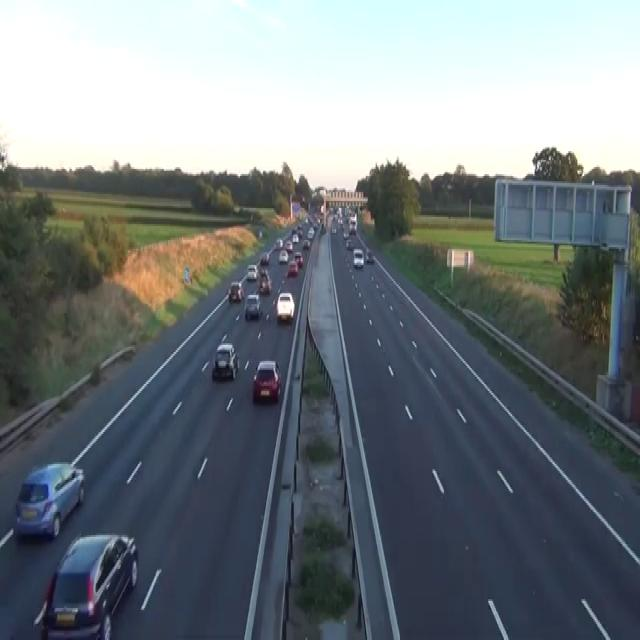Car: (32, 532, 138, 638), (14, 460, 85, 540), (252, 359, 281, 402), (212, 342, 239, 381), (276, 292, 295, 322), (244, 293, 261, 320), (227, 281, 244, 302), (258, 268, 271, 294), (352, 247, 364, 267), (246, 263, 257, 279), (287, 260, 298, 276), (294, 250, 303, 266), (278, 249, 288, 263), (365, 249, 374, 263), (260, 251, 269, 265), (274, 236, 283, 249), (346, 238, 354, 249), (302, 238, 310, 249), (284, 240, 292, 251), (307, 226, 314, 238), (348, 222, 355, 233), (342, 228, 349, 238), (296, 226, 303, 236), (292, 233, 299, 242), (331, 224, 337, 233), (320, 224, 326, 233), (291, 226, 296, 236), (304, 217, 309, 224), (259, 230, 262, 238)
